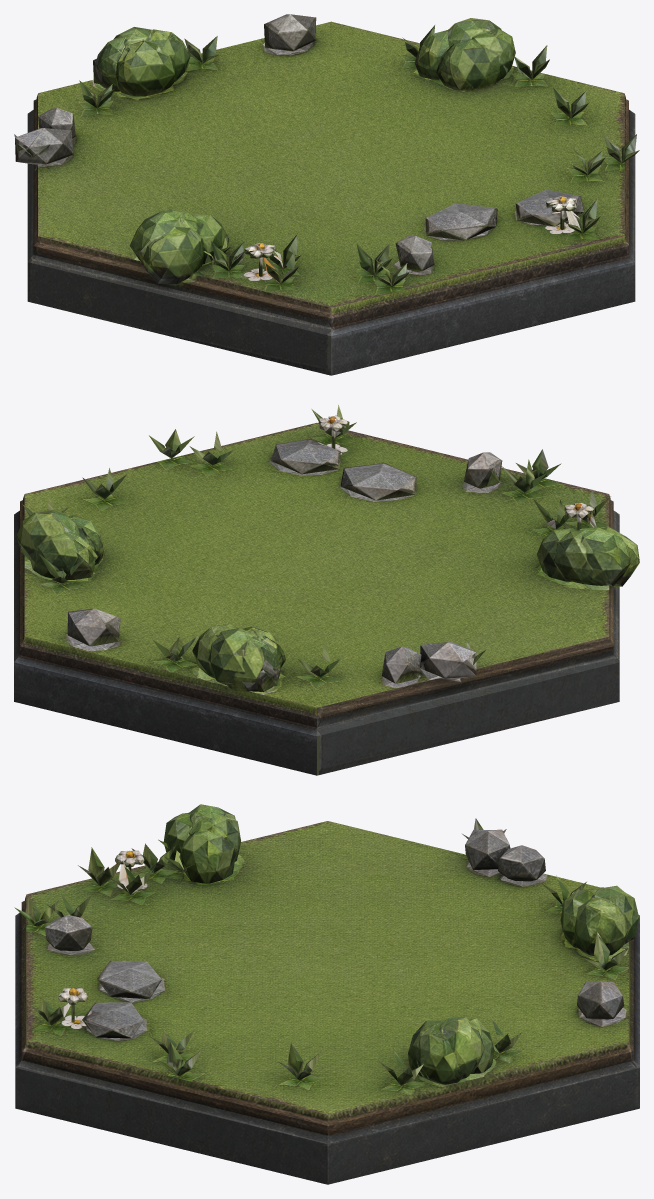
The model's file is hex_meadow_character.glb.
The picture shows the model from 3 angles, top to bottom: view 1: azimuth 30°, elevation 25°; view 2: azimuth 150°, elevation 25°; view 3: azimuth 270°, elevation 25°; orthographic projection. The views are drawn at different scales.
Parts seen in each view (by area): view 1: Hex meadow, Hex stone foundation, Hex earth rim, Leaf cluster.009, Leaf cluster.003, Leaf cluster.006, Path stepping stone, Meadow stone.002, Meadow stone.004, Path stepping stone.001, Leaf cluster.001, Meadow stone.003 (+7 smaller); view 2: Hex meadow, Hex stone foundation, Hex earth rim, Path stepping stone, Leaf cluster.007, Leaf cluster.001, Path stepping stone.001, Meadow stone.002, Leaf cluster.010, Meadow stone.004, Leaf cluster.004, Leaf cluster.008 (+8 smaller); view 3: Hex meadow, Hex stone foundation, Hex earth rim, Leaf cluster, Leaf cluster.011, Path stepping stone, Leaf cluster.005, Path stepping stone.001, Leaf cluster.004, Meadow stone.004, Meadow stone.002, Meadow stone.001 (+6 smaller).
Part boxes in pixels (left/top/right/bottom): Hex meadow: left=36, top=21, right=625, bottom=313; Hex stone foundation: left=27, top=110, right=635, bottom=375; Hex earth rim: left=33, top=99, right=628, bottom=327; Leaf cluster.009: left=115, top=40, right=174, bottom=96; Leaf cluster.003: left=142, top=228, right=205, bottom=284; Leaf cluster.006: left=436, top=39, right=501, bottom=90; Path stepping stone: left=425, top=203, right=497, bottom=240; Meadow stone.002: left=15, top=128, right=73, bottom=164; Meadow stone.004: left=264, top=14, right=316, bottom=51; Path stepping stone.001: left=515, top=189, right=583, bottom=226; Leaf cluster.001: left=129, top=210, right=185, bottom=264; Meadow stone.003: left=395, top=235, right=434, bottom=272; Hex meadow: left=23, top=422, right=610, bottom=713; Hex stone foundation: left=14, top=510, right=619, bottom=775; Hex earth rim: left=20, top=500, right=613, bottom=727; Path stepping stone: left=340, top=463, right=416, bottom=500; Leaf cluster.007: left=29, top=532, right=95, bottom=579; Leaf cluster.001: left=578, top=527, right=631, bottom=586; Path stepping stone.001: left=271, top=439, right=340, bottom=474; Meadow stone.002: left=420, top=642, right=476, bottom=679; Leaf cluster.010: left=208, top=628, right=258, bottom=685; Meadow stone.004: left=67, top=608, right=120, bottom=646; Leaf cluster.004: left=16, top=511, right=79, bottom=560; Leaf cluster.008: left=228, top=637, right=280, bottom=691; Hex meadow: left=25, top=821, right=630, bottom=1120; Hex stone foundation: left=15, top=912, right=639, bottom=1184; Hex earth rim: left=21, top=900, right=633, bottom=1135; Leaf cluster: left=179, top=831, right=235, bottom=883; Leaf cluster.011: left=575, top=898, right=627, bottom=956; Path stepping stone: left=97, top=960, right=161, bottom=999; Leaf cluster.005: left=415, top=1024, right=463, bottom=1084; Path stepping stone.001: left=82, top=1002, right=143, bottom=1038; Leaf cluster.004: left=439, top=1016, right=484, bottom=1078; Meadow stone.004: left=577, top=981, right=624, bottom=1019; Meadow stone.002: left=465, top=829, right=510, bottom=869; Meadow stone.001: left=498, top=845, right=545, bottom=881.
Bounding box in the file's own units: 3.7 × 0.6511 × 3.21.
5 materials, 5 textured.
